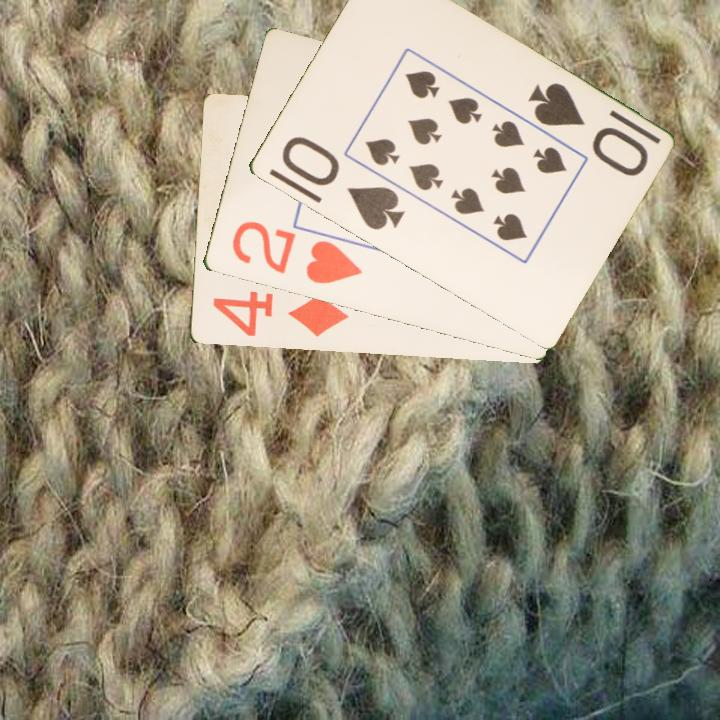10s: (277, 132, 407, 234), (523, 78, 651, 180)
2h: (228, 218, 365, 288)
4d: (208, 288, 351, 340)
